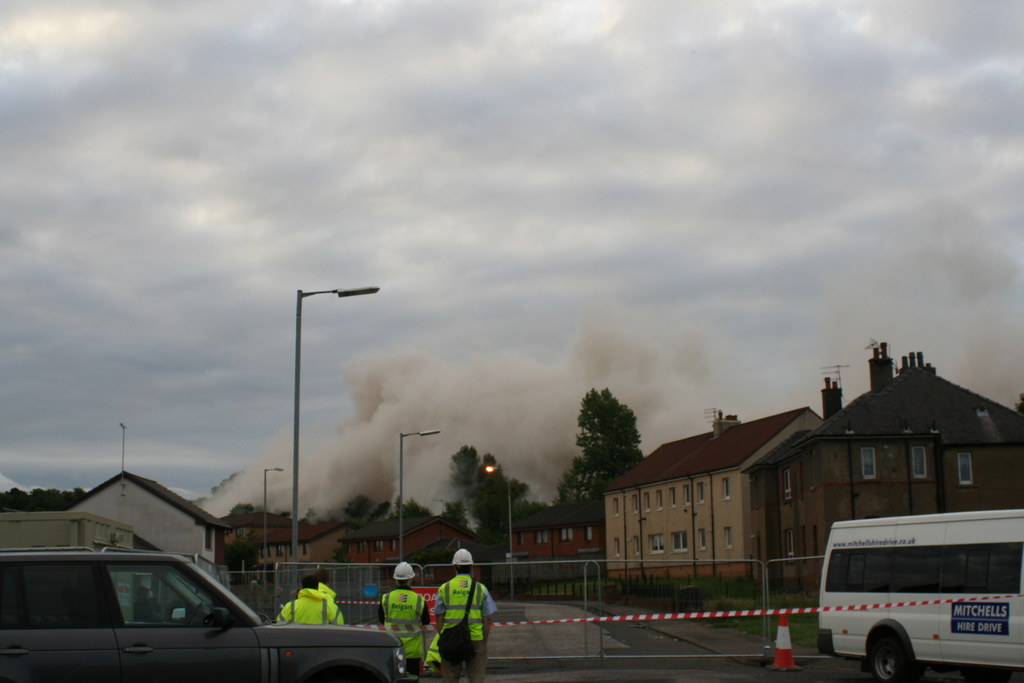Bus: (814, 509, 1023, 682)
